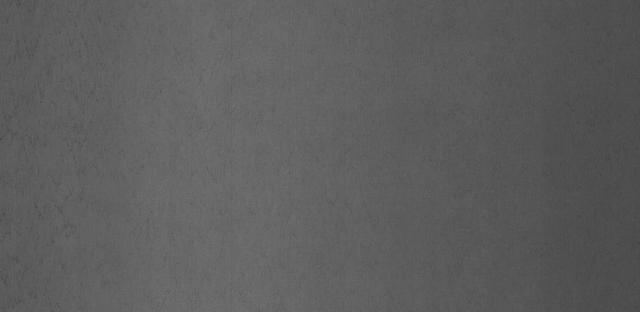silk_spot: (11, 40, 107, 221)
